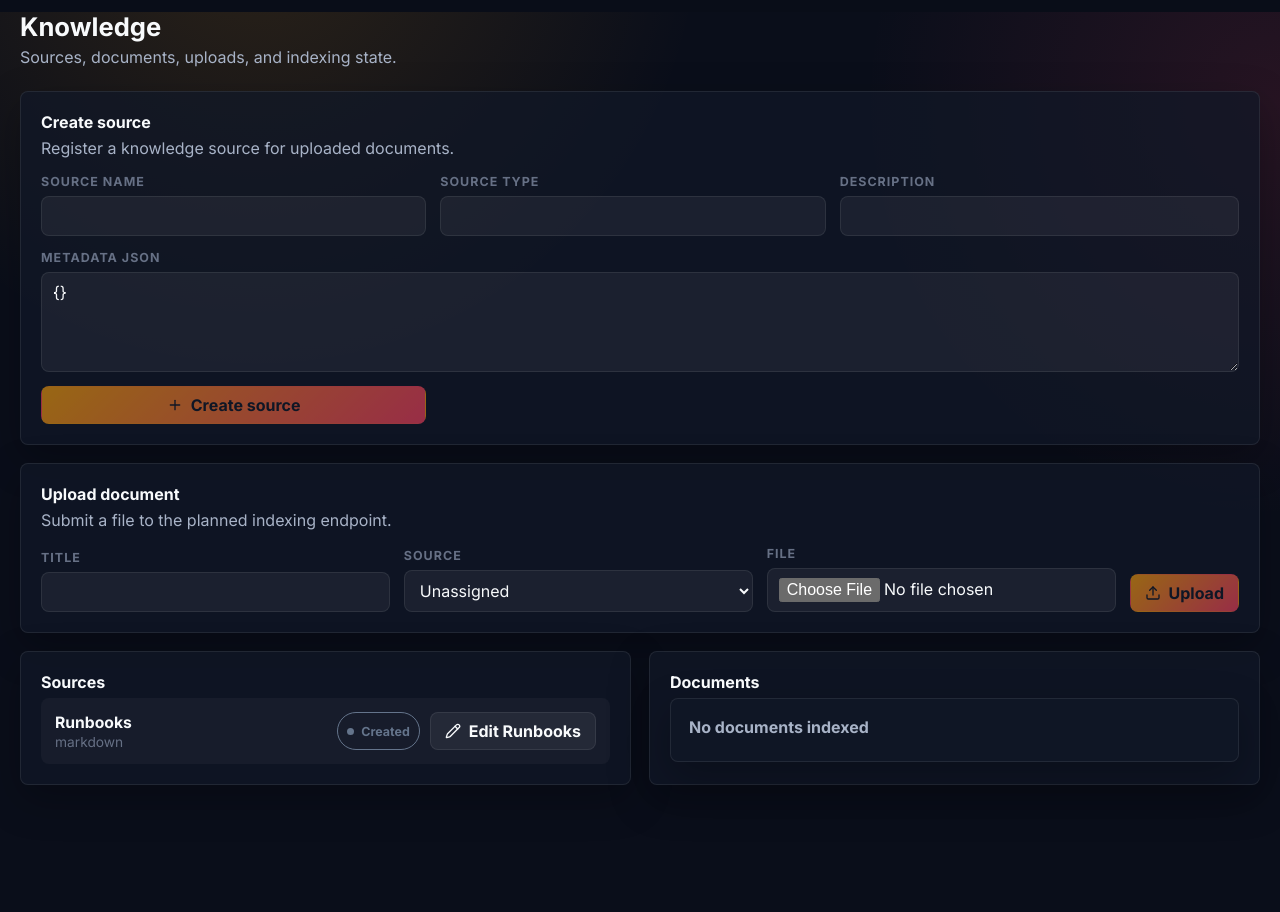
Test: KnowledgePage › keeps source edit failures visible
Click the button "Edit Runbooks".
click(513, 731)  # box [430,712,596,750]
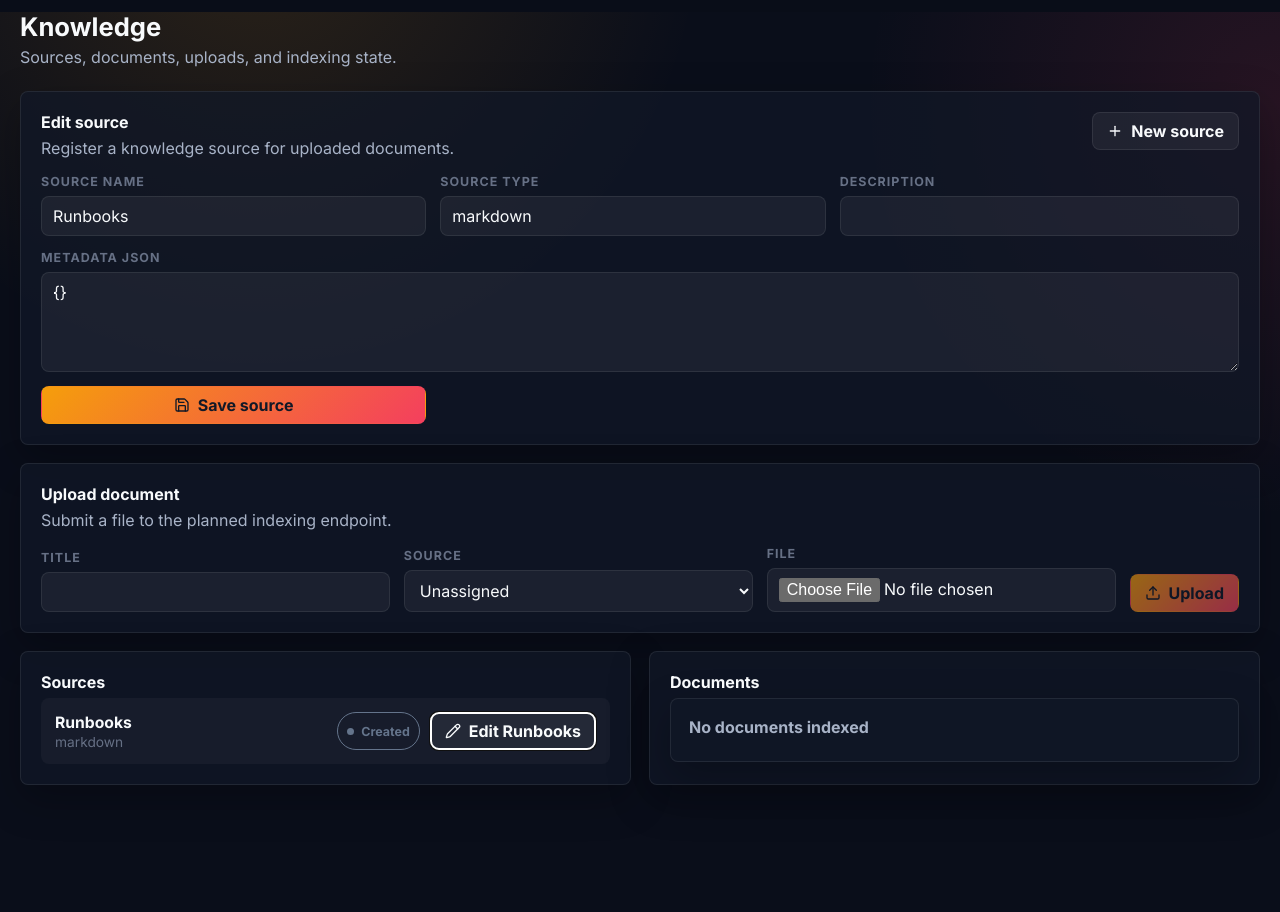
Click the button "Save source".
click(234, 405)  # box [41,386,426,424]
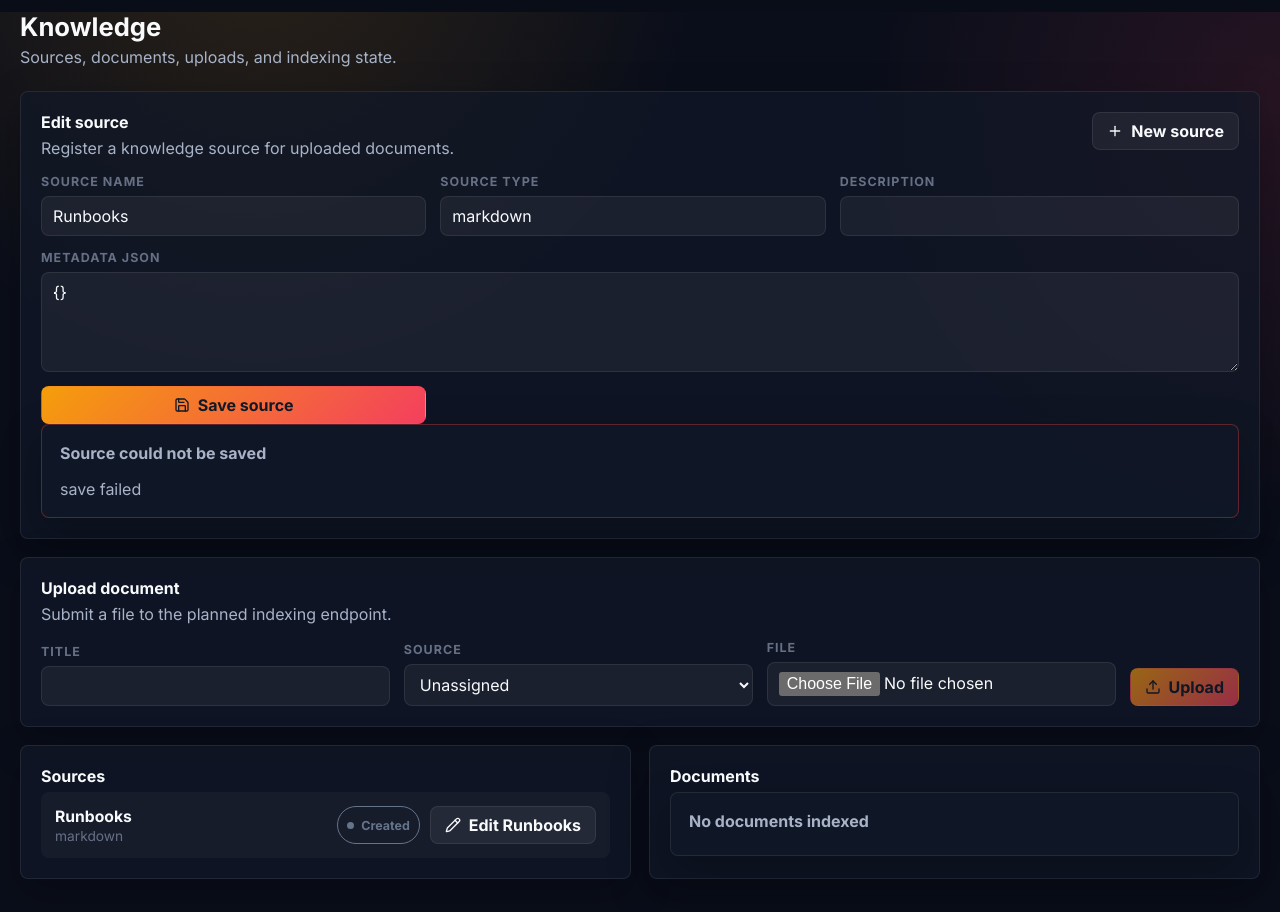
Now the heading "Source could not be saved" is shown, box [60,443,266,463]
Now the text "save failed" is shown, box [60,479,141,499]
